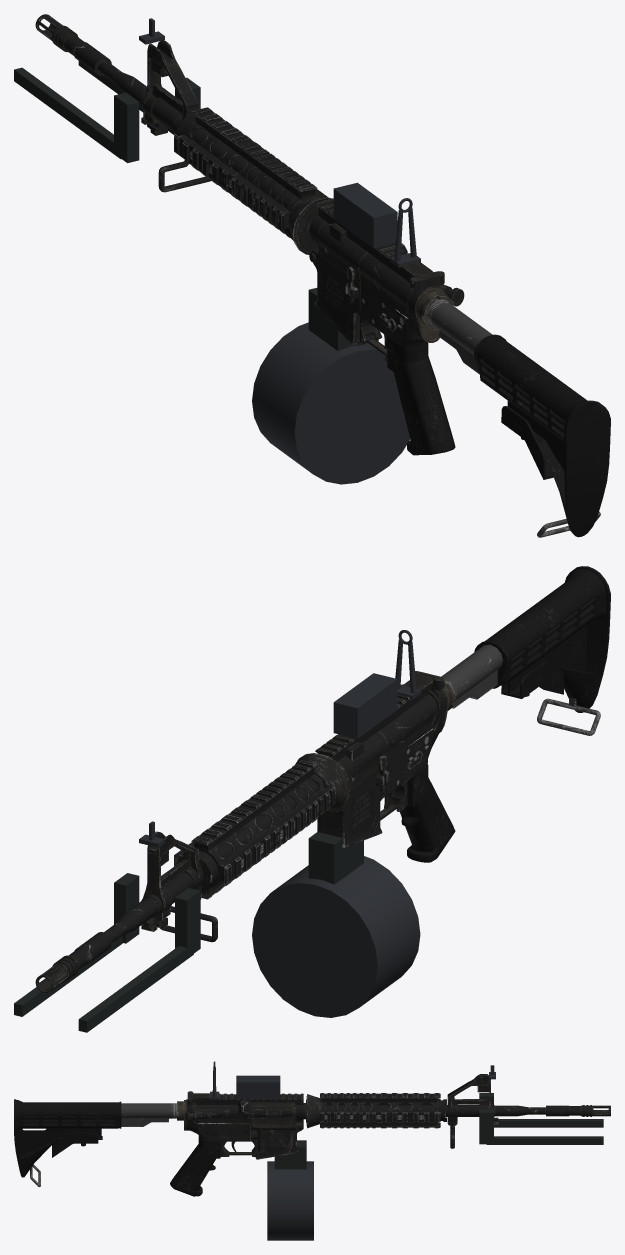
The picture shows the model from 3 angles, top to bottom: view 1: azimuth 30°, elevation 25°; view 2: azimuth 150°, elevation 25°; view 3: azimuth 270°, elevation 25°; orthographic projection. The views are drawn at different scales.
Visible parts, largest first — view 1: body, mag, rearsight; view 2: body, mag, rearsight; view 3: body, mag, boltCarrier.
Part boxes in pixels (left/top/right/bottom): body: left=14, top=14, right=610, bottom=537; mag: left=252, top=288, right=410, bottom=484; rearsight: left=390, top=198, right=420, bottom=267; body: left=14, top=566, right=610, bottom=1032; mag: left=252, top=832, right=420, bottom=1017; rearsight: left=395, top=630, right=420, bottom=699; body: left=14, top=1065, right=610, bottom=1196; mag: left=267, top=1140, right=313, bottom=1240; boltCarrier: left=252, top=1110, right=292, bottom=1116.
Bounding box in the file's own units: 0.136 × 0.3304 × 1.02.
4 materials, 2 textured.
